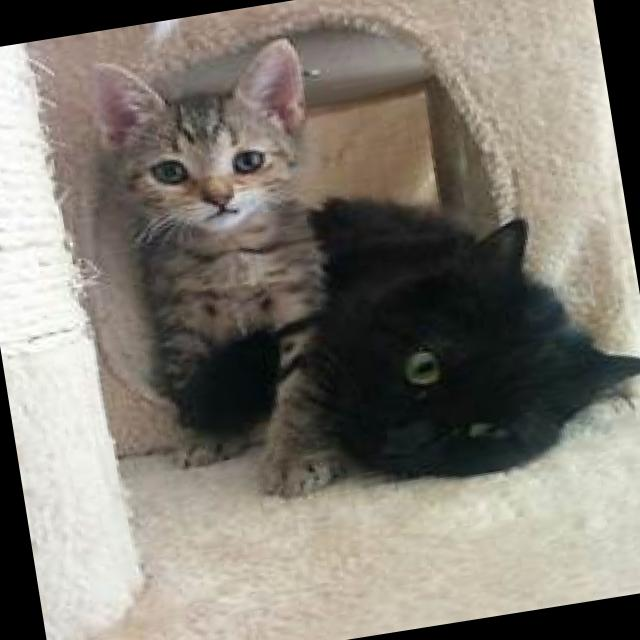animal: (84, 26, 374, 516), (298, 151, 640, 498)
